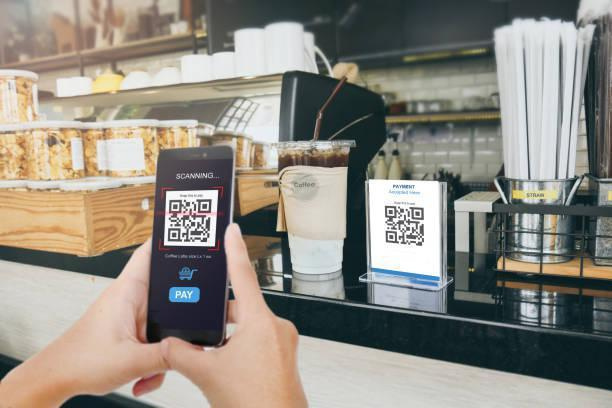qr_code: (168, 199, 212, 242), (385, 206, 424, 246)
